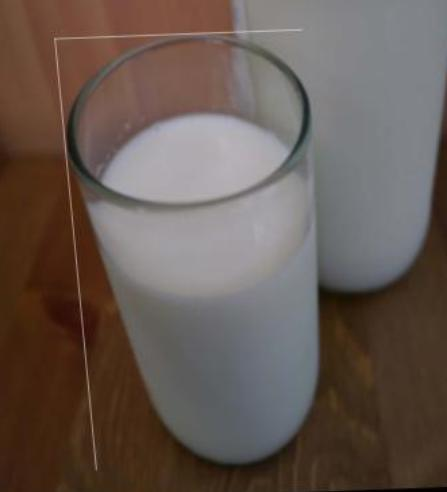produk_susu: (80, 72, 321, 452)
